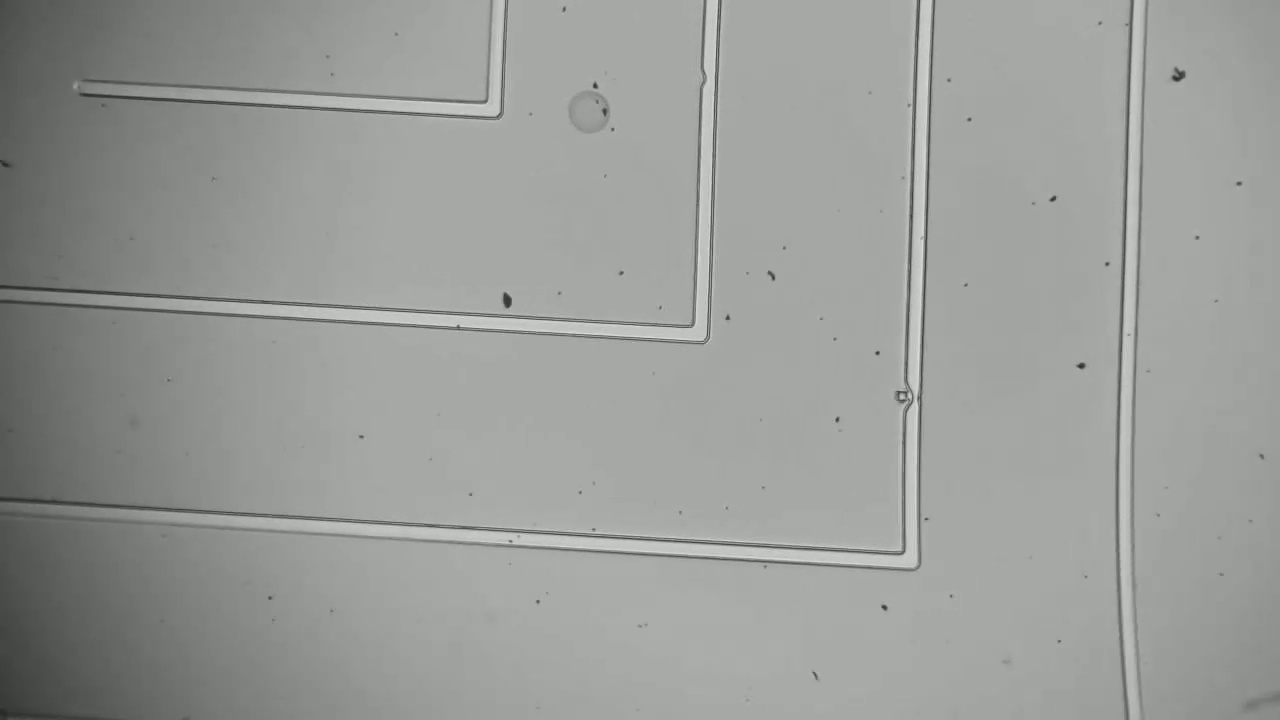edge_bite: (891, 373, 929, 425), (692, 62, 723, 101)
